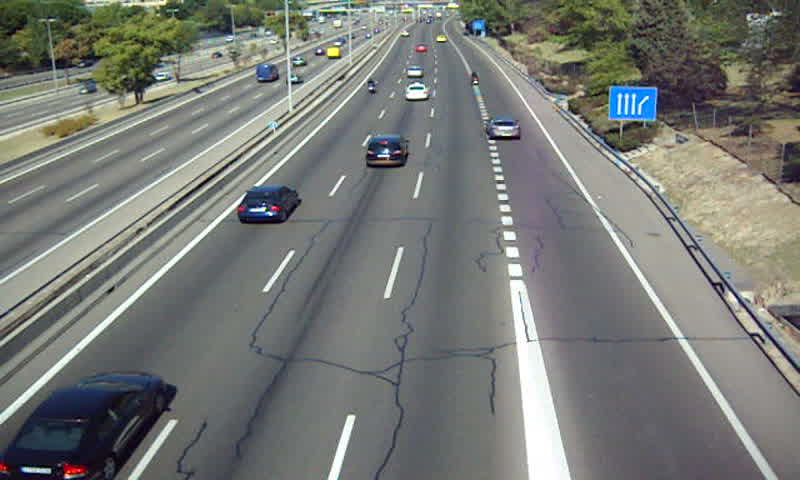car: (1, 373, 163, 480), (237, 186, 298, 224), (365, 134, 406, 166), (486, 115, 523, 140), (403, 82, 428, 101), (406, 64, 422, 78)
motorcycle: (367, 75, 377, 97), (469, 71, 481, 87)
